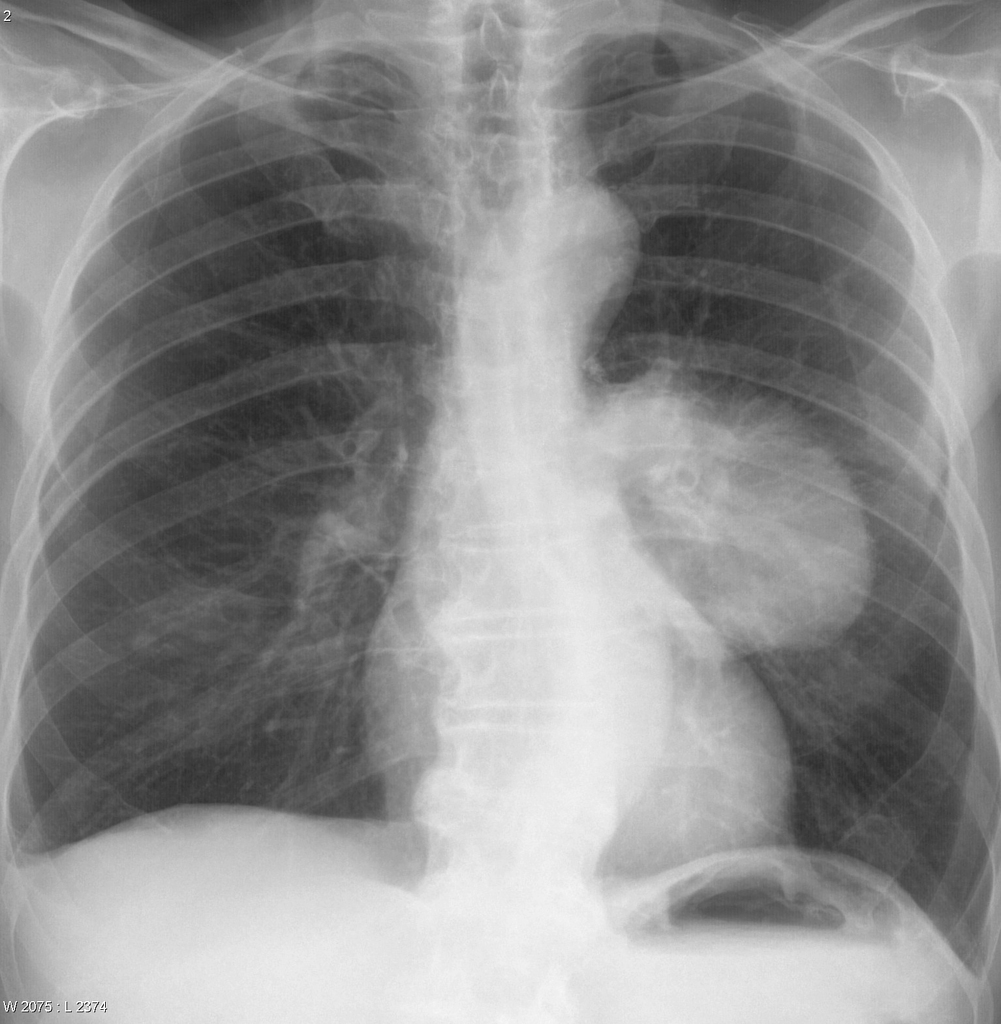cancer: (59, 196, 455, 804), (576, 99, 886, 692)
